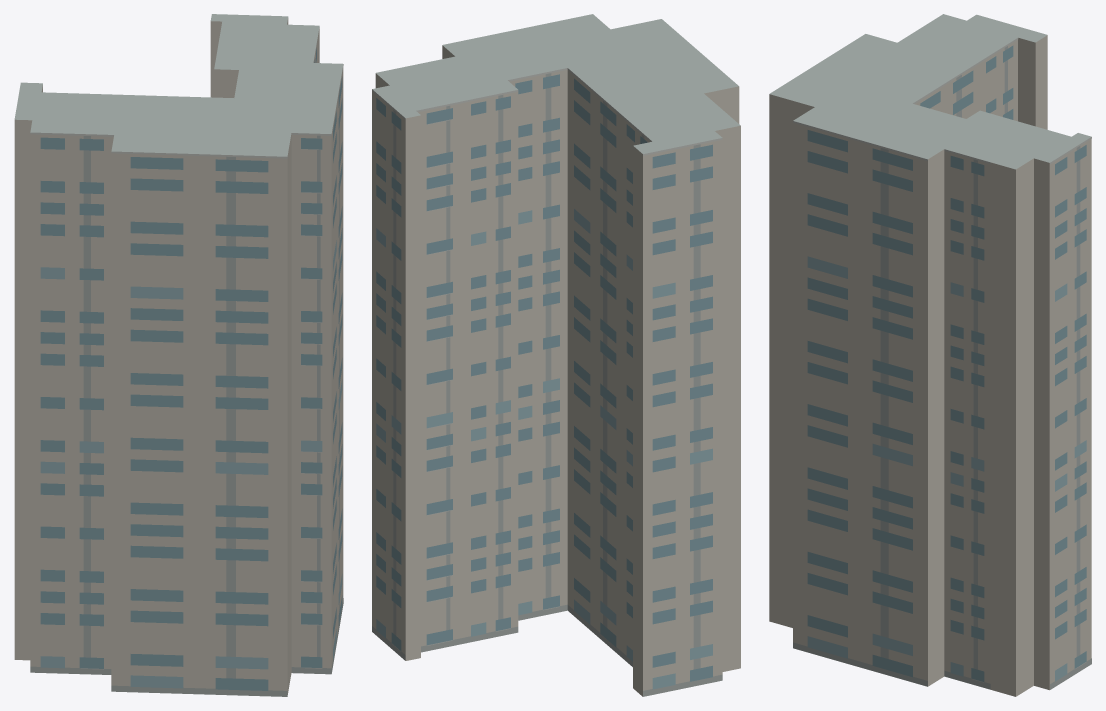
Rendered from residential-92ff1e0d-3528-4b6d-890e-cbb2a0804222.glb.
3 renders of one model, left to right at view 1: azimuth 30°, elevation 25°; view 2: azimuth 150°, elevation 25°; view 3: azimuth 270°, elevation 25°, orthographic. The views are drawn at different scales.
Parts seen in each view (by area): view 1: residential-92ff1e0d-3528-4b6d-890e-cbb2a0804222.tmp; view 2: residential-92ff1e0d-3528-4b6d-890e-cbb2a0804222.tmp; view 3: residential-92ff1e0d-3528-4b6d-890e-cbb2a0804222.tmp.
Part boxes in pixels (bbox=[...]): residential-92ff1e0d-3528-4b6d-890e-cbb2a0804222.tmp: bbox=[14, 14, 343, 696]; residential-92ff1e0d-3528-4b6d-890e-cbb2a0804222.tmp: bbox=[372, 14, 740, 696]; residential-92ff1e0d-3528-4b6d-890e-cbb2a0804222.tmp: bbox=[769, 14, 1091, 696].
Size of the model in its own units: 45.55 by 72 by 39.93.
